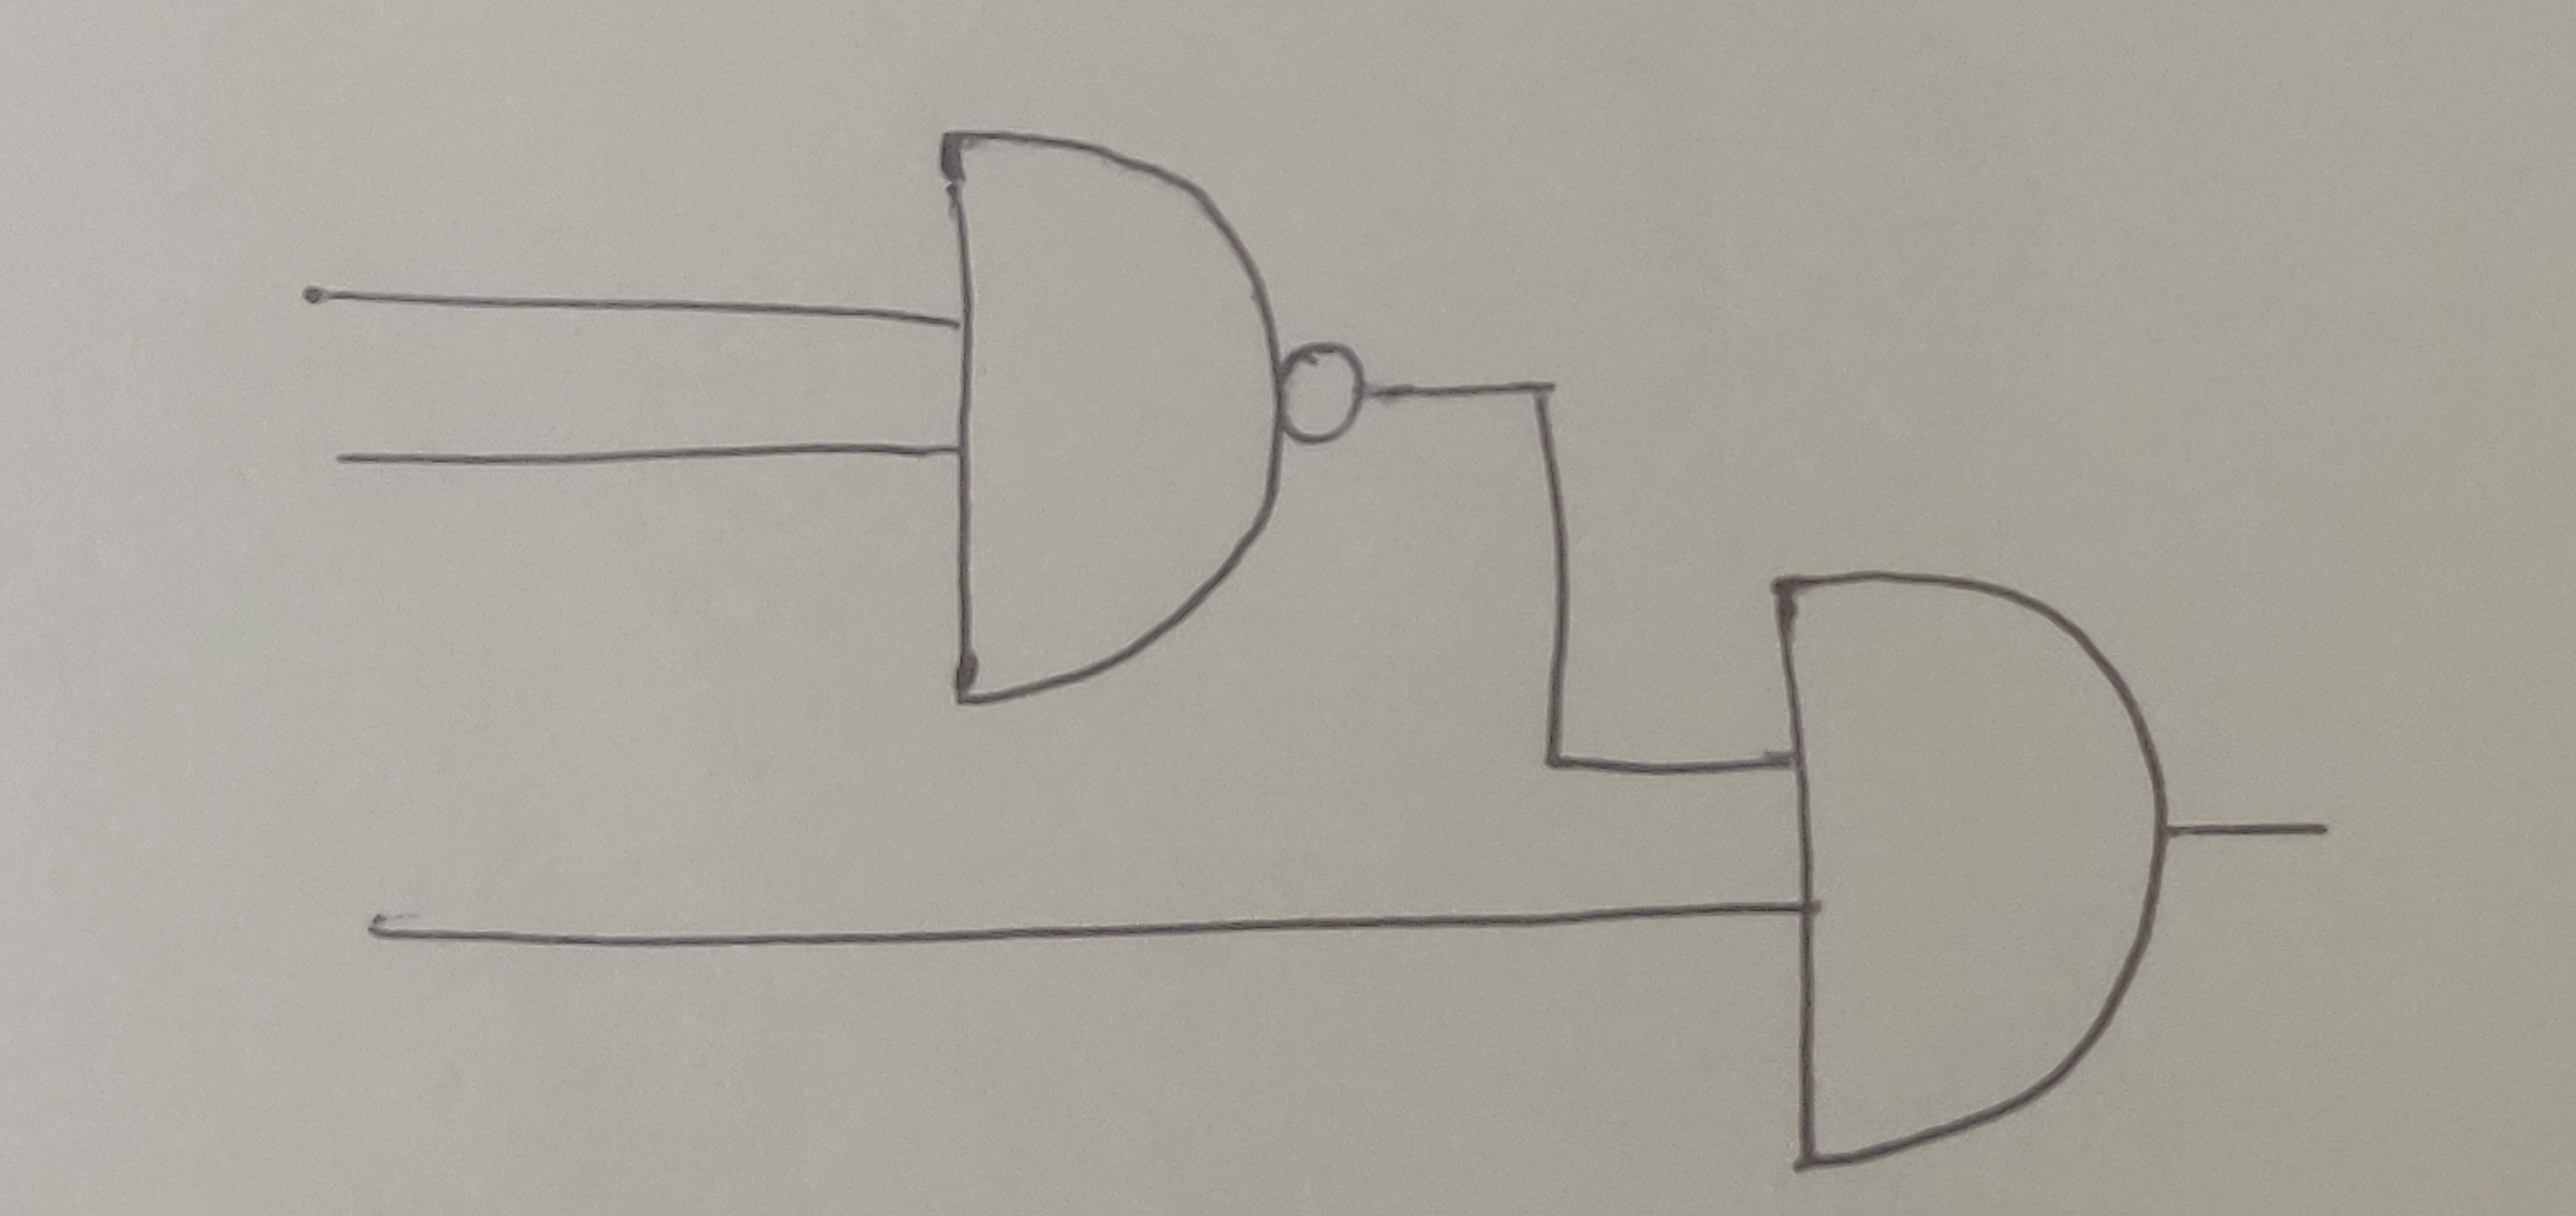and: (1761, 572, 2178, 1180), (933, 122, 1288, 703)
not: (1278, 332, 1370, 454)
